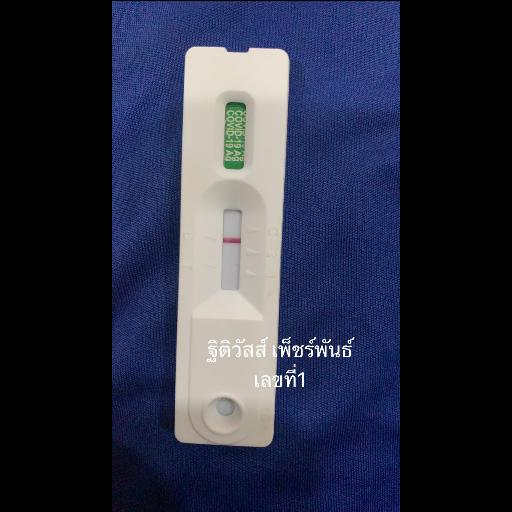Neg: (173, 47, 291, 450)
